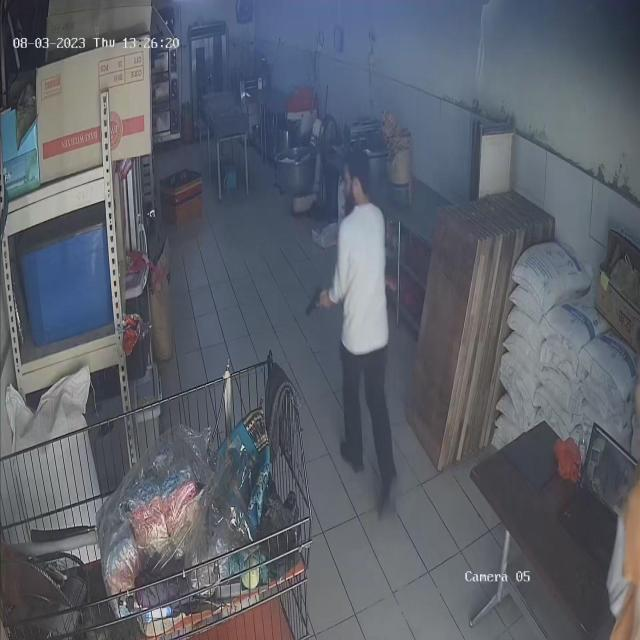Gun: (300, 278, 332, 320)
